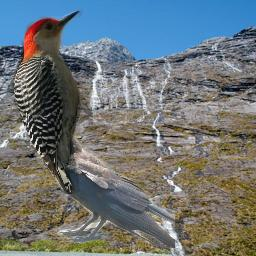Crow: (30, 132, 175, 248)
Woodpecker: (11, 9, 93, 194)
